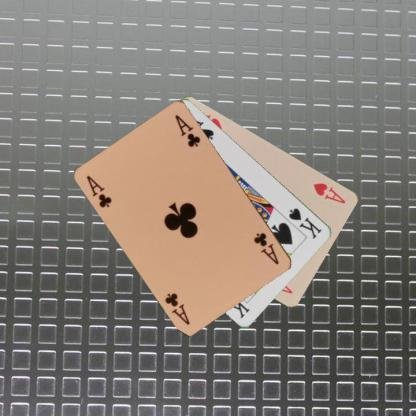Ac: (251, 230, 281, 266), (84, 173, 113, 209)
Ah: (311, 180, 347, 205)
Ks: (287, 205, 323, 240)
